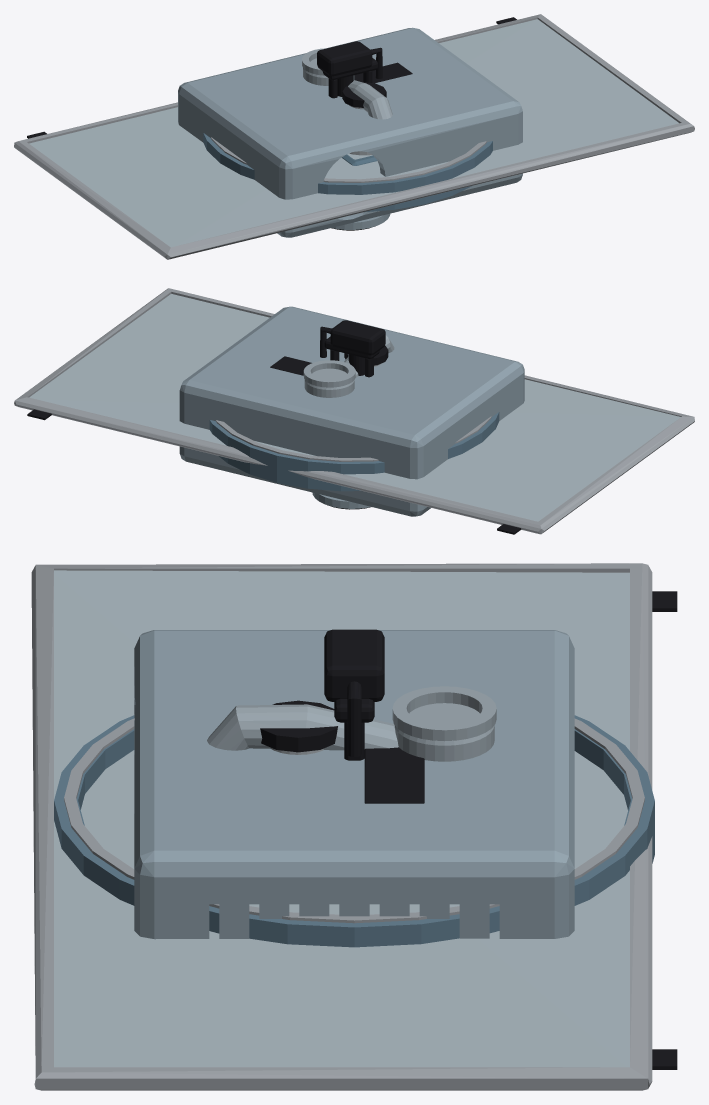
The model's file is campus.glb.
3 views of the same model, one above another, from view 1: azimuth 30°, elevation 25°; view 2: azimuth 150°, elevation 25°; view 3: azimuth 270°, elevation 25° (orthographic). The views are drawn at different scales.
Visible parts, largest first — view 1: difusor_luminaria, carcasa_proyector, carcasa_reloj_pared, flotante_cisterna, canilla, valvula_descarga, sifon_lavatorio; view 2: difusor_luminaria, carcasa_proyector, carcasa_reloj_pared, flotante_cisterna, canilla, valvula_descarga; view 3: difusor_luminaria, carcasa_proyector, carcasa_reloj_pared, canilla, flotante_cisterna, sifon_lavatorio, valvula_descarga.
Boxes of the visible parts, <box> form: difusor_luminaria: <box>14,14,694,259</box>; carcasa_proyector: <box>178,27,522,237</box>; carcasa_reloj_pared: <box>203,133,492,212</box>; flotante_cisterna: <box>317,41,382,96</box>; canilla: <box>302,48,392,119</box>; valvula_descarga: <box>322,58,390,230</box>; sifon_lavatorio: <box>342,82,386,155</box>; difusor_luminaria: <box>14,288,694,534</box>; carcasa_proyector: <box>179,306,524,516</box>; carcasa_reloj_pared: <box>209,412,499,491</box>; flotante_cisterna: <box>320,320,385,375</box>; canilla: <box>303,335,394,397</box>; valvula_descarga: <box>312,336,379,509</box>; difusor_luminaria: <box>31,563,677,1090</box>; carcasa_proyector: <box>134,630,574,939</box>; carcasa_reloj_pared: <box>54,715,654,947</box>; canilla: <box>207,686,496,761</box>; flotante_cisterna: <box>324,629,384,756</box>; sifon_lavatorio: <box>260,700,337,754</box>; valvula_descarga: <box>334,698,374,760</box>.
Size of the model in its own units: 61 by 19.05 by 32.25.
